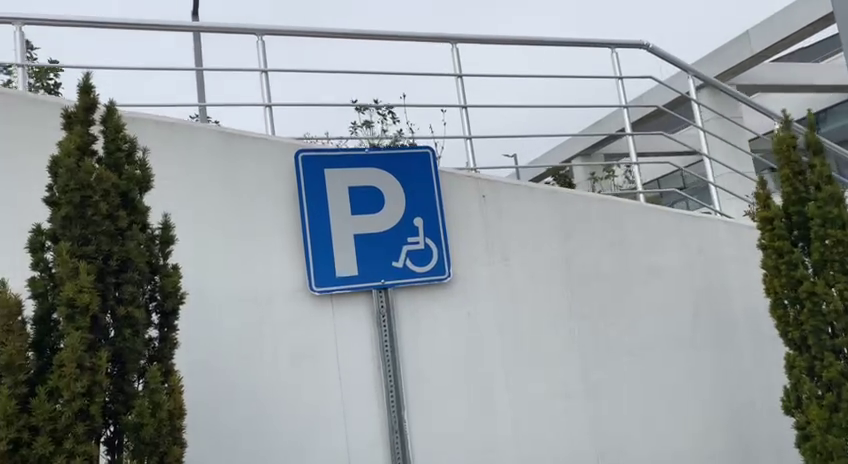parking: (293, 142, 455, 294)
